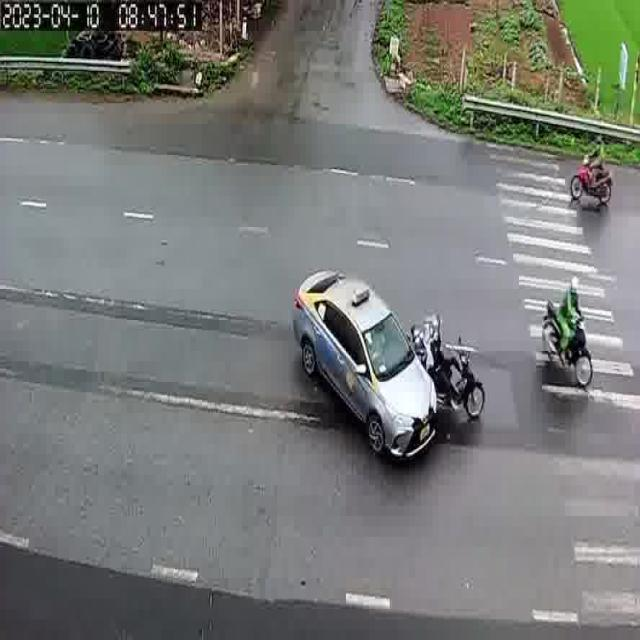multiple_accident: (287, 259, 491, 481)
normal: (524, 263, 606, 396), (551, 121, 626, 214)
